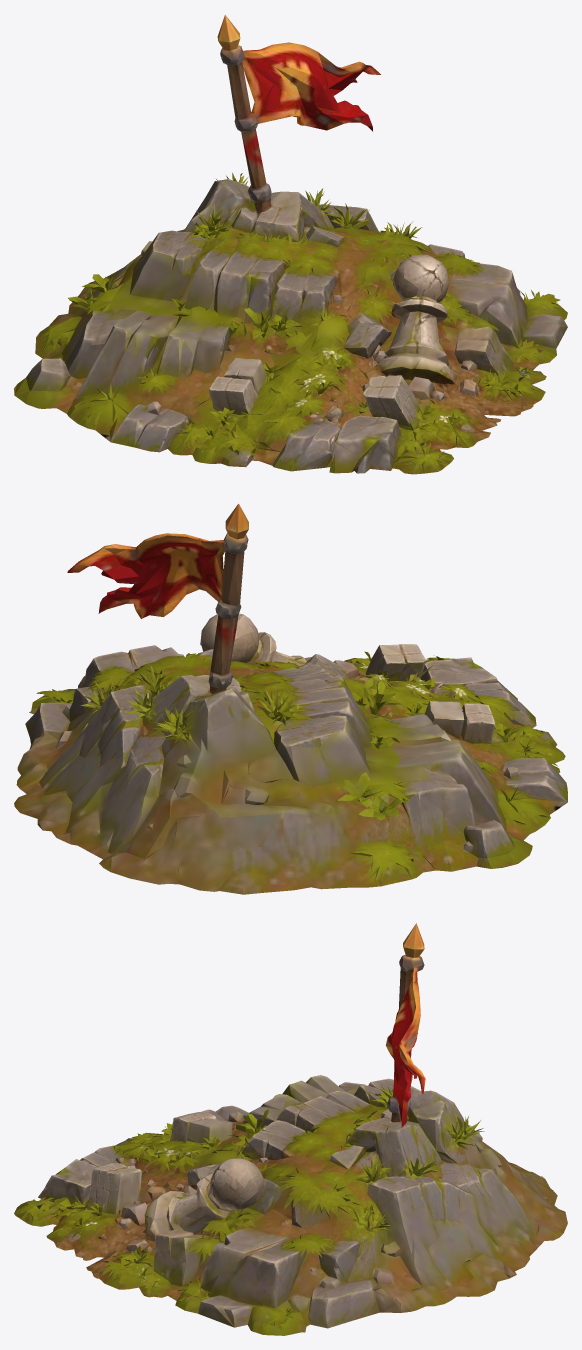
Rendered from prop_chesshill.glb.
3 renders of one model, top to bottom at view 1: azimuth 30°, elevation 25°; view 2: azimuth 150°, elevation 25°; view 3: azimuth 270°, elevation 25°, orthographic. The views are drawn at different scales.
Parts seen in each view (by area): view 1: output_unwrapped; view 2: output_unwrapped; view 3: output_unwrapped.
Boxes of the visible parts, x1=… form: output_unwrapped: x1=14, y1=15, x2=567, y2=474; output_unwrapped: x1=14, y1=503, x2=567, y2=894; output_unwrapped: x1=14, y1=923, x2=567, y2=1335.
Size of the model in its own units: 1.9 by 1.1 by 1.9.
Materials: 1 (1 with a texture image).
